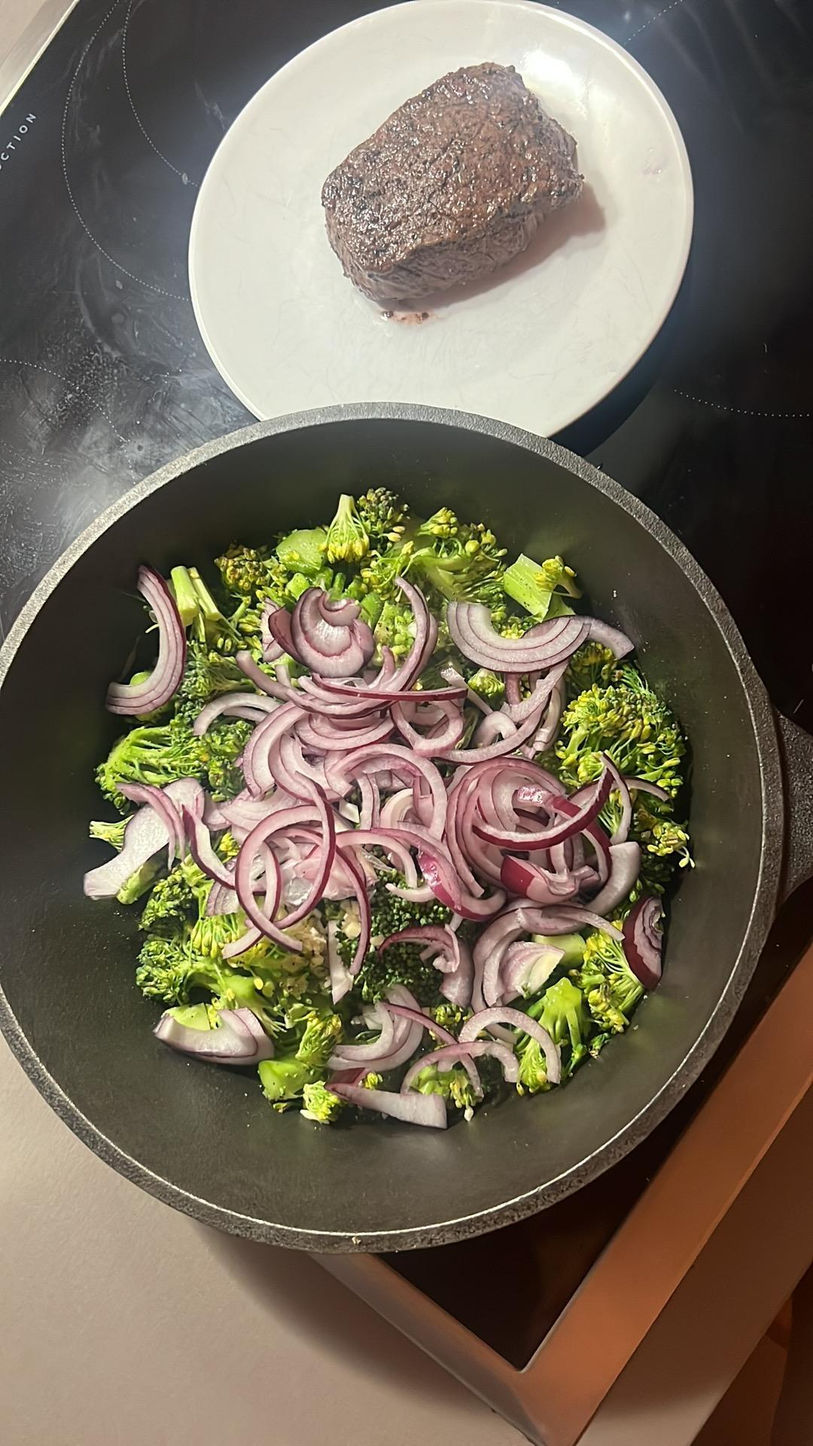broccoli: (515, 911, 633, 1041), (562, 665, 684, 788), (182, 533, 274, 689), (129, 933, 324, 1005), (105, 721, 249, 795), (411, 514, 527, 599), (326, 486, 438, 574), (134, 873, 235, 946), (254, 1011, 339, 1096), (500, 558, 585, 608)
onion: (236, 789, 356, 951), (290, 589, 418, 718), (462, 899, 620, 1000), (453, 766, 579, 886), (87, 779, 201, 892), (100, 563, 182, 718), (318, 732, 453, 826), (505, 847, 642, 933), (461, 772, 620, 846), (504, 612, 638, 698), (256, 702, 445, 759), (273, 583, 385, 676), (445, 604, 598, 667), (388, 706, 552, 764), (414, 827, 506, 923), (239, 696, 320, 799), (289, 829, 423, 889), (331, 986, 420, 1075), (155, 998, 277, 1062), (404, 1037, 518, 1101), (318, 674, 489, 714), (325, 1078, 451, 1129), (462, 1016, 558, 1081), (502, 662, 563, 762), (190, 689, 288, 729), (626, 897, 670, 972)
